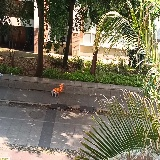fire: (53, 83, 63, 94)
